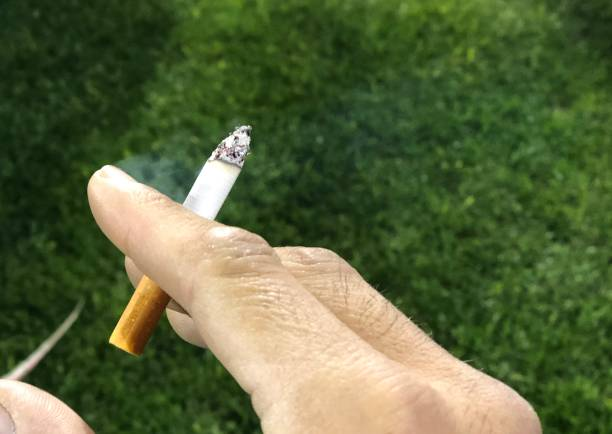cigarette: (109, 123, 251, 359)
